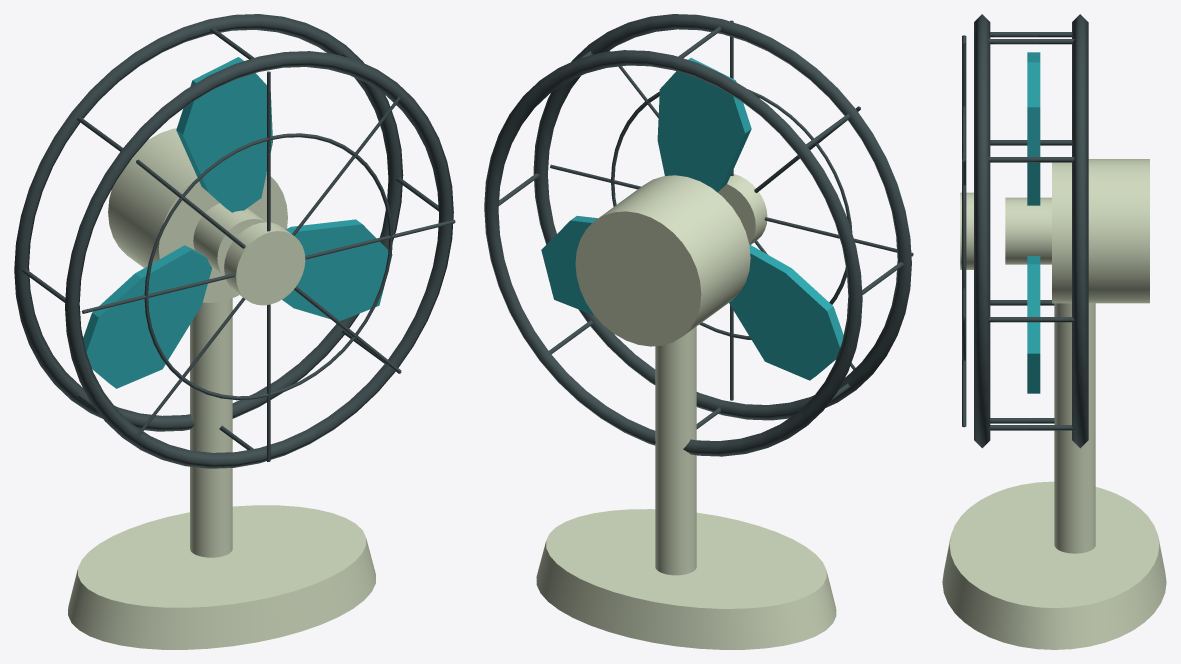
Rendered from fan.obj.
3 renders of one model, left to right at view 1: azimuth 30°, elevation 25°; view 2: azimuth 150°, elevation 25°; view 3: azimuth 270°, elevation 25°, orthographic. The views are drawn at different scales.
Parts seen in each view (by area): view 1: fan_body, fan_guard, fan_rotor, fan_cap; view 2: fan_body, fan_guard, fan_rotor, fan_cap; view 3: fan_body, fan_guard, fan_rotor, fan_cap.
Boxes of the visible parts, x1,y1,x2,y2 form: fan_body: [68, 128, 375, 649]; fan_guard: [14, 14, 455, 468]; fan_rotor: [83, 57, 392, 388]; fan_cap: [224, 222, 305, 305]; fan_body: [536, 175, 836, 649]; fan_guard: [484, 14, 913, 456]; fan_rotor: [541, 58, 843, 380]; fan_cap: [717, 174, 767, 244]; fan_body: [942, 159, 1166, 649]; fan_guard: [962, 14, 1088, 448]; fan_rotor: [1027, 52, 1040, 393]; fan_cap: [960, 192, 973, 269].
Bounding box in the file's own units: 0.842 × 1.17 × 0.434.
